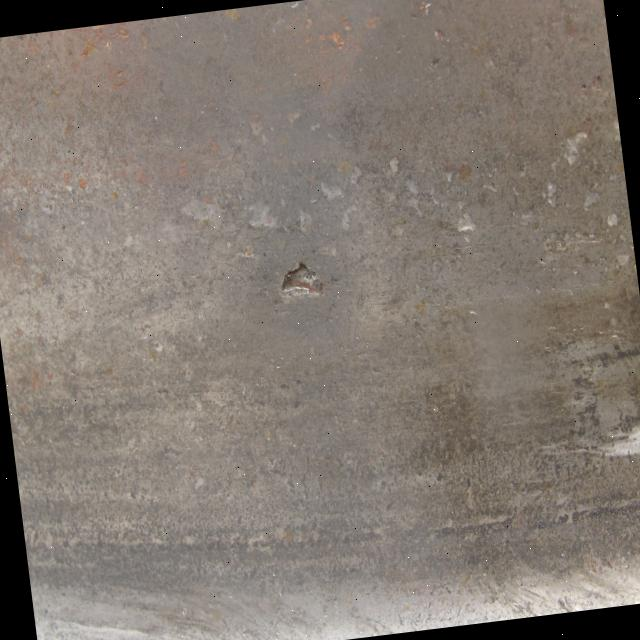Peeling: (279, 261, 326, 301)
